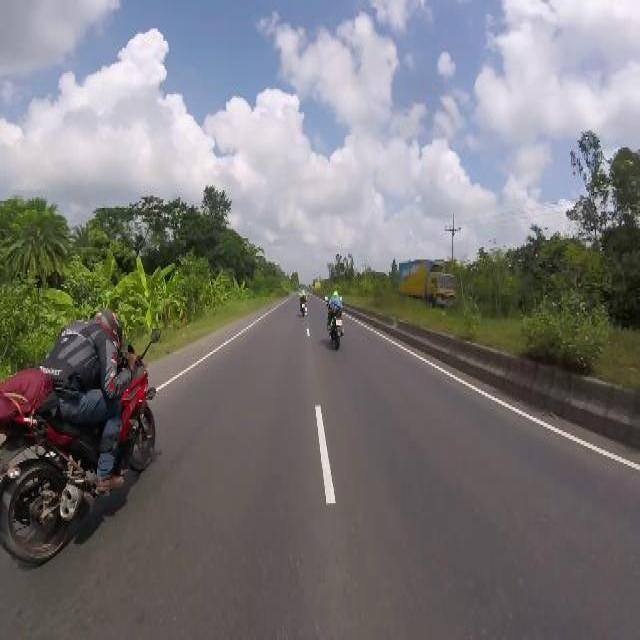Motorcycle: (0, 307, 163, 569), (323, 286, 351, 352)
